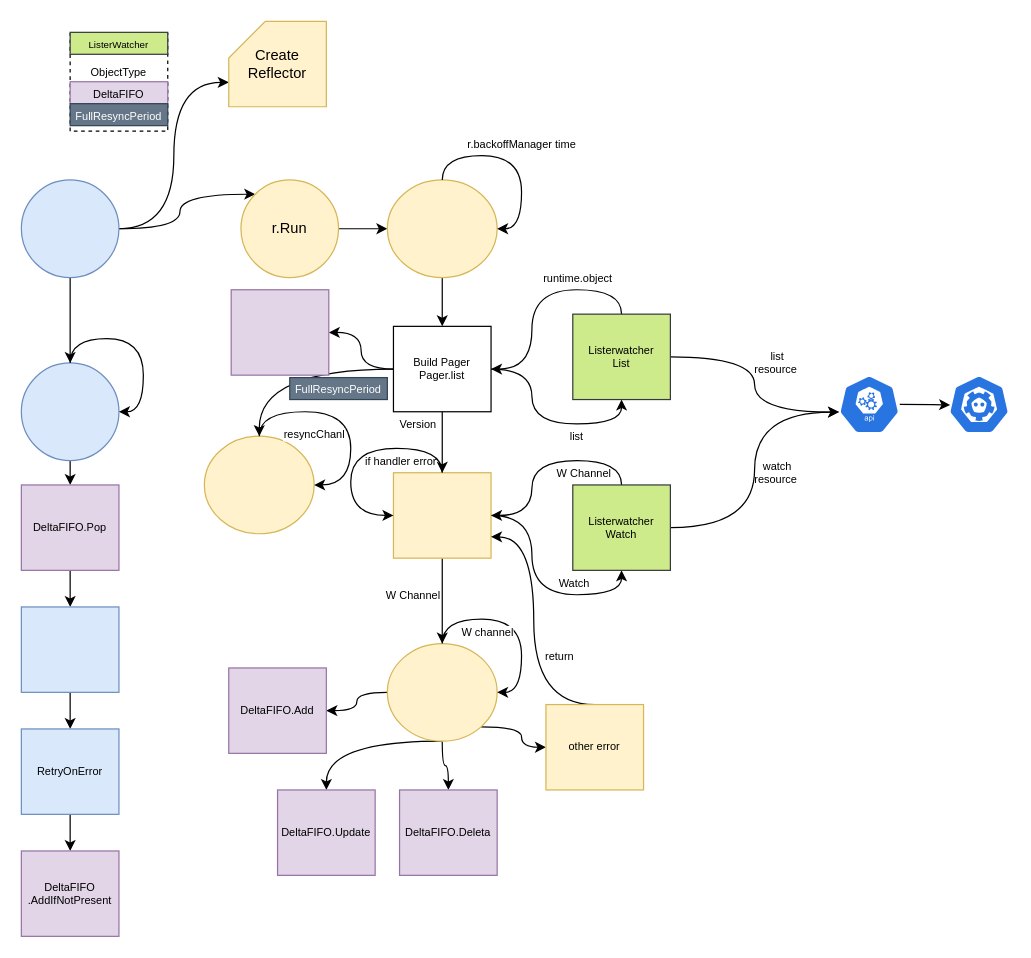
Some shapes in this 1031 by 958 pixel diagram are drawn without their labels. Each missing label, with the centre of its shape:
"c.processLoop" goes at [69,411].
"c.Run" goes at [69,228].
"DeltaFIFO.Replace" goes at [279,332].
"handler function" goes at [441,691].
"PopProcessFunc" goes at [69,649].
"r.ListAndWatch" goes at [441,228].
"resync function" goes at [258,484].
"watch connection" goes at [441,515].
